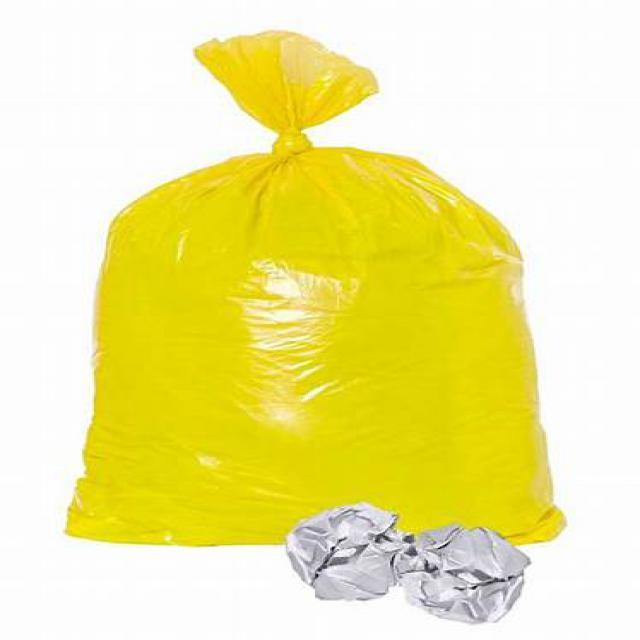waste: (81, 36, 552, 548)
